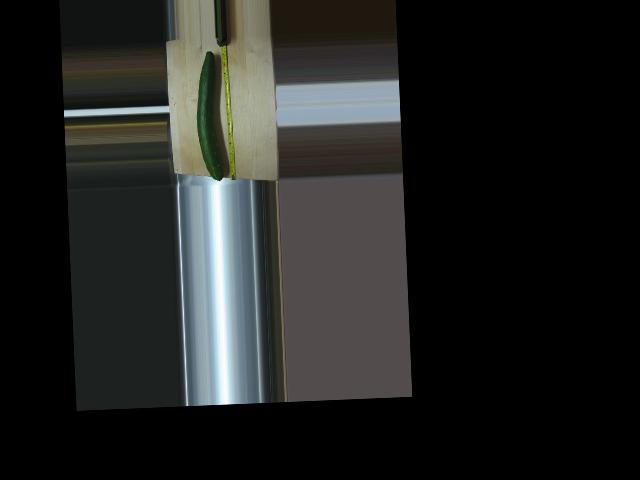cucumber: (194, 50, 225, 181)
